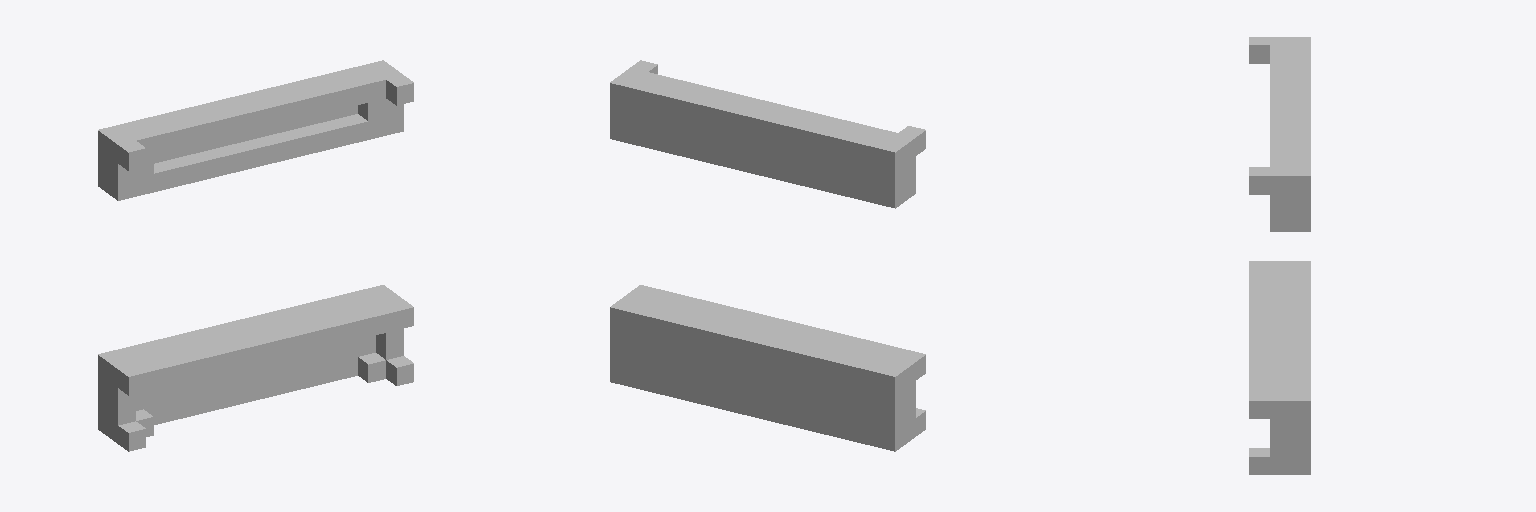
The model's file is wallWindowM.obj.
3 views of the same model, side by side, from view 1: azimuth 30°, elevation 25°; view 2: azimuth 150°, elevation 25°; view 3: azimuth 270°, elevation 25° (orthographic).
Visible parts, largest first — view 1: object 1; view 2: object 1; view 3: object 1.
Boxes of the visible parts, x1=… form: object 1: x1=98, y1=60, x2=413, y2=451; object 1: x1=610, y1=60, x2=925, y2=451; object 1: x1=1249, y1=37, x2=1310, y2=474.
Size of the model in its own units: 1.6 by 1.6 by 0.3.